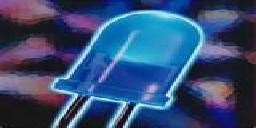LED: (52, 9, 208, 128)
